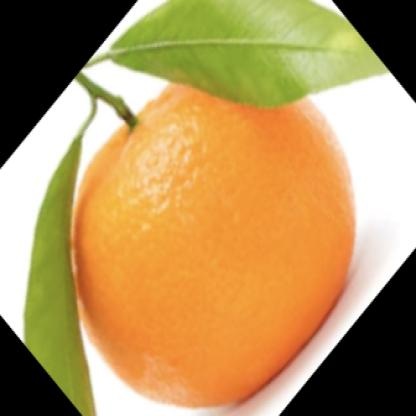fresh: (72, 55, 355, 406)
